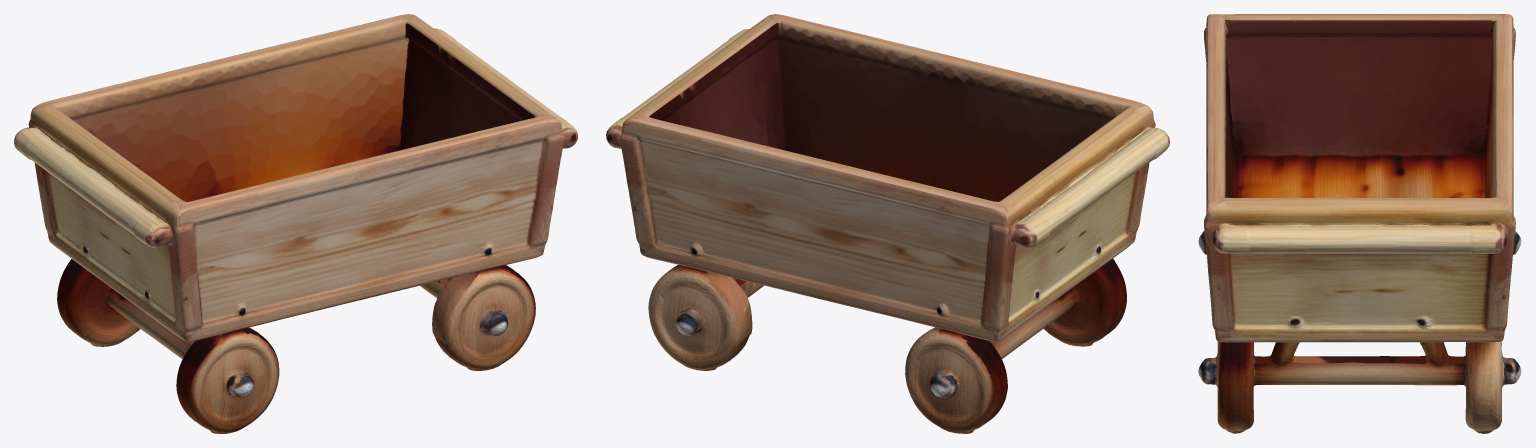
The model's file is mdl_cart_001.glb.
3 views of the same model, side by side, from view 1: azimuth 30°, elevation 25°; view 2: azimuth 150°, elevation 25°; view 3: azimuth 270°, elevation 25° (orthographic). The views are drawn at different scales.
Visible parts, largest first — view 1: tmpn6m53oto.ply; view 2: tmpn6m53oto.ply; view 3: tmpn6m53oto.ply.
Boxes of the visible parts, x1,y1,x2,y2 form: tmpn6m53oto.ply: [14, 14, 577, 433]; tmpn6m53oto.ply: [606, 14, 1169, 433]; tmpn6m53oto.ply: [1198, 14, 1521, 433].
Size of the model in its own units: 0.9897 by 0.5316 by 0.6156.
1 material, 1 textured.
